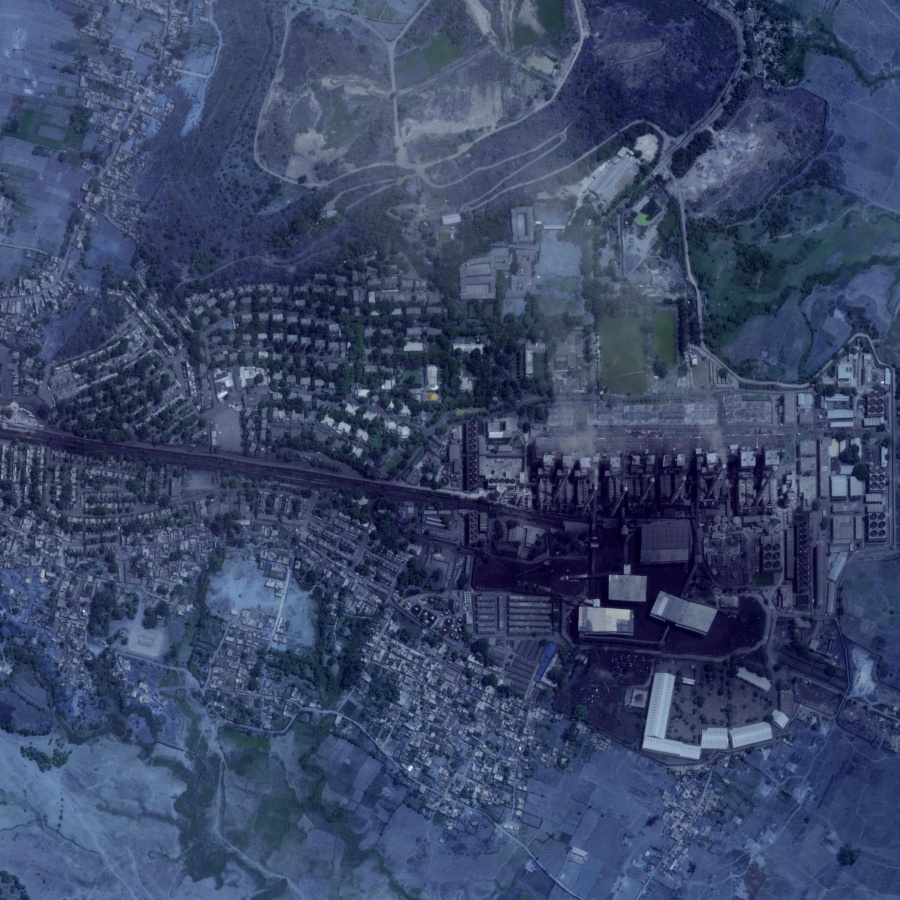PowerPlant: (473, 315, 896, 665)
